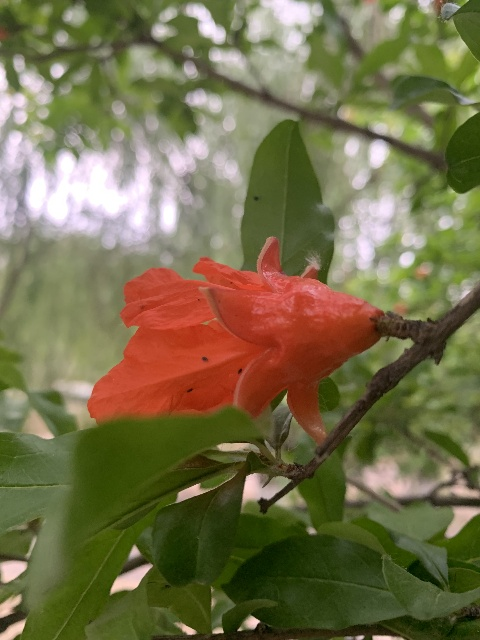flower: (88, 234, 385, 448)
